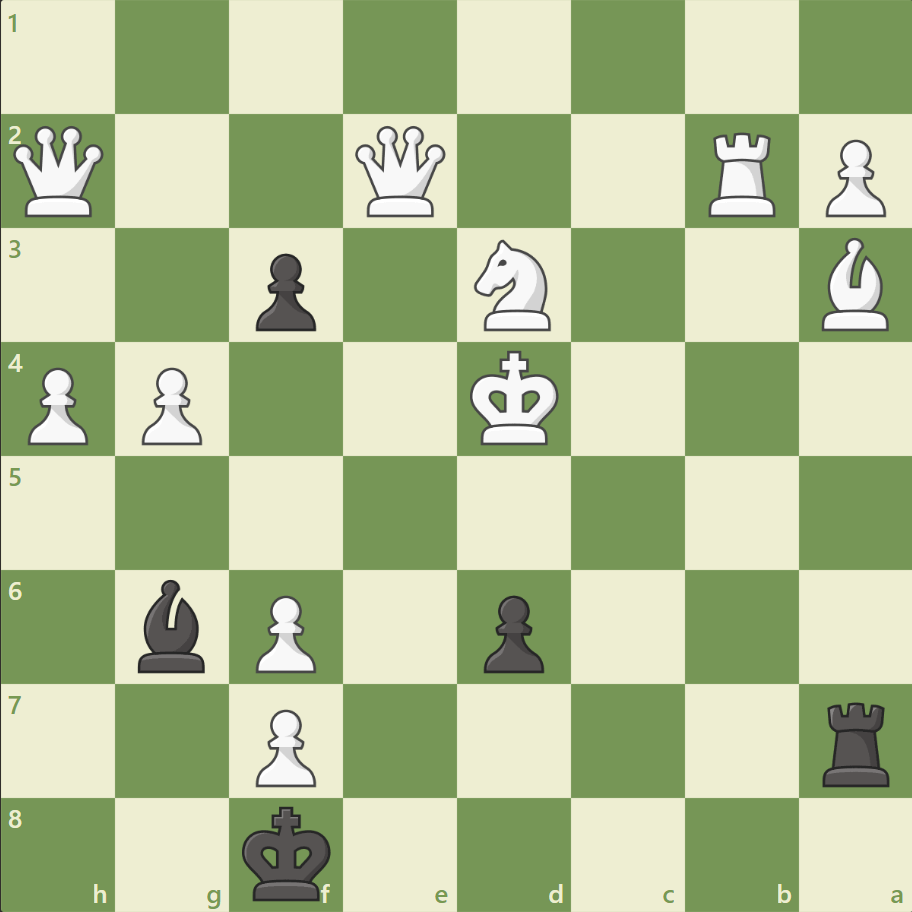B: (812, 233, 896, 336)
K: (465, 344, 565, 452)
N: (465, 234, 562, 337)
P: (247, 700, 322, 791), (247, 586, 322, 677), (133, 359, 208, 450), (20, 359, 95, 450), (815, 132, 889, 223)
Q: (351, 122, 450, 222), (10, 122, 109, 222)
R: (700, 125, 783, 222)
b: (131, 574, 215, 676)
k: (238, 798, 338, 906)
p: (474, 586, 549, 677), (247, 246, 322, 337)
r: (814, 693, 897, 790)
